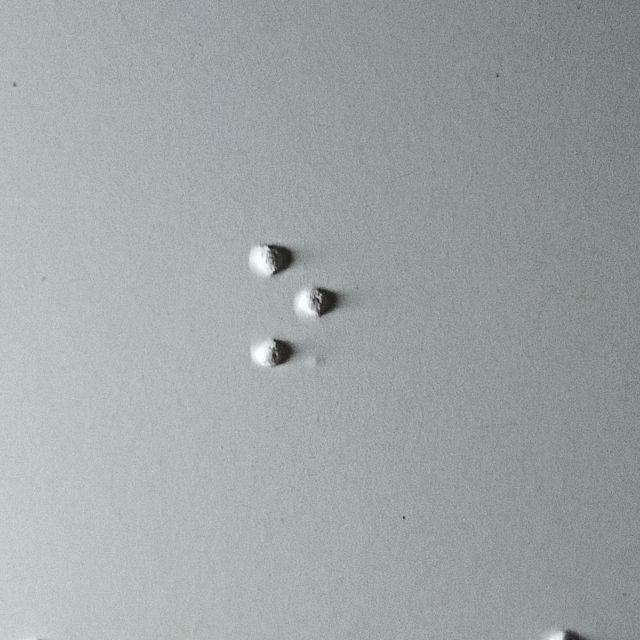o: (251, 238, 339, 371)
